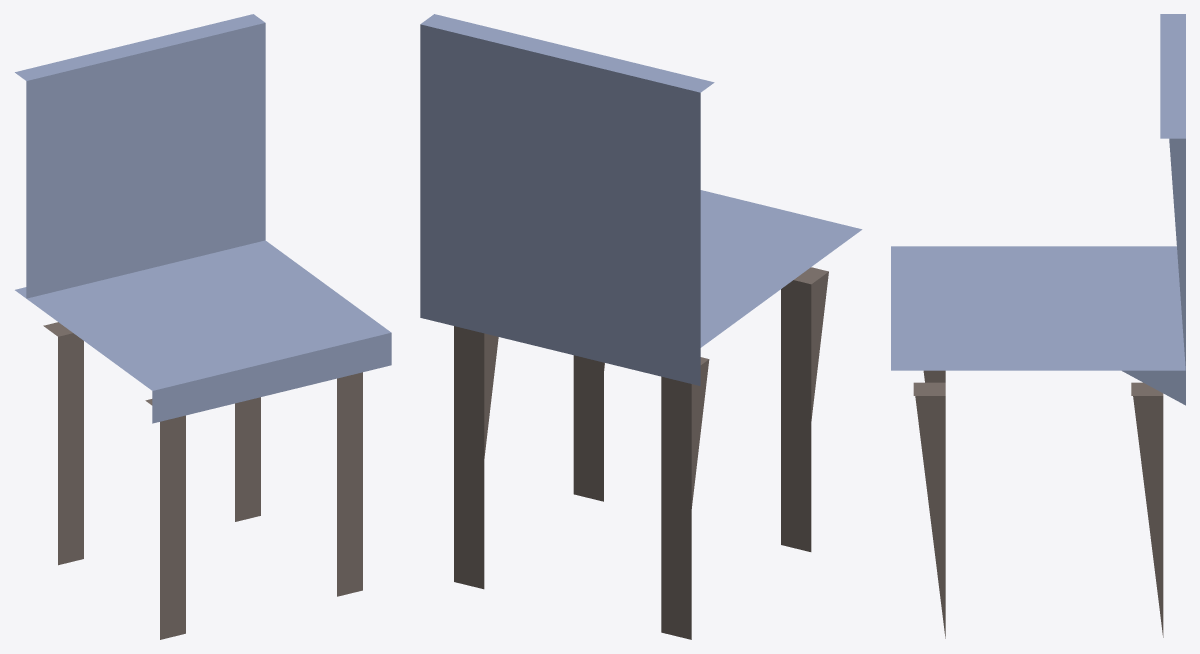
The model's file is side-chair.glb.
The picture shows the model from 3 angles, left to right: view 1: azimuth 30°, elevation 25°; view 2: azimuth 150°, elevation 25°; view 3: azimuth 270°, elevation 25°; orthographic projection. The views are drawn at different scales.
Bounding box in the file's own units: 0.46 × 0.88 × 0.46.
